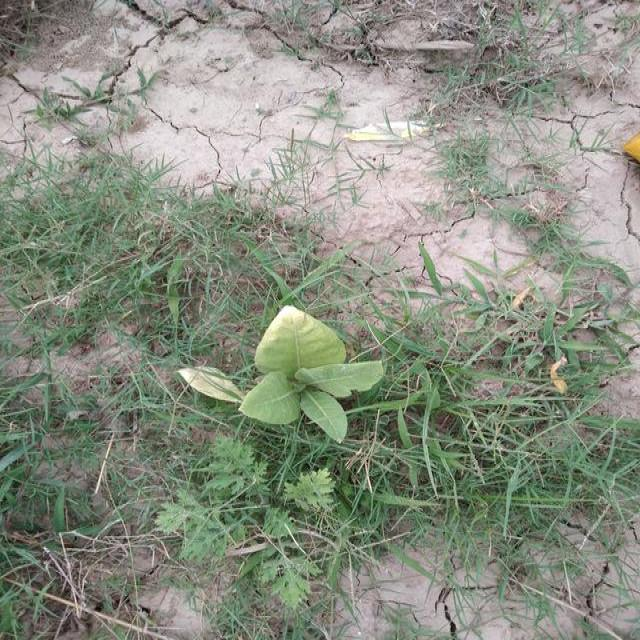crop: (174, 314, 402, 442)
